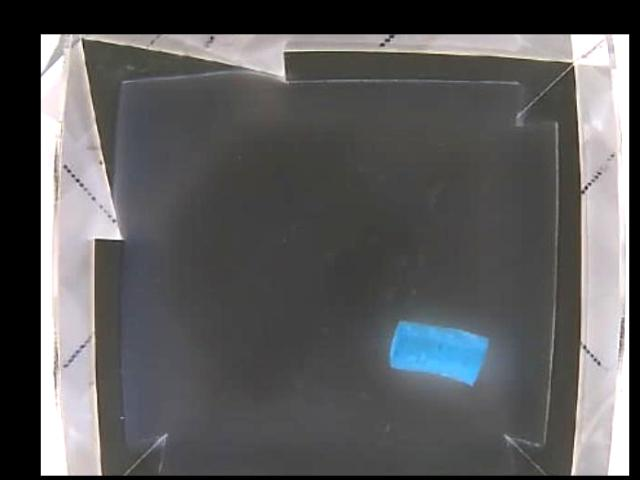Carrot: (390, 319, 493, 387)
